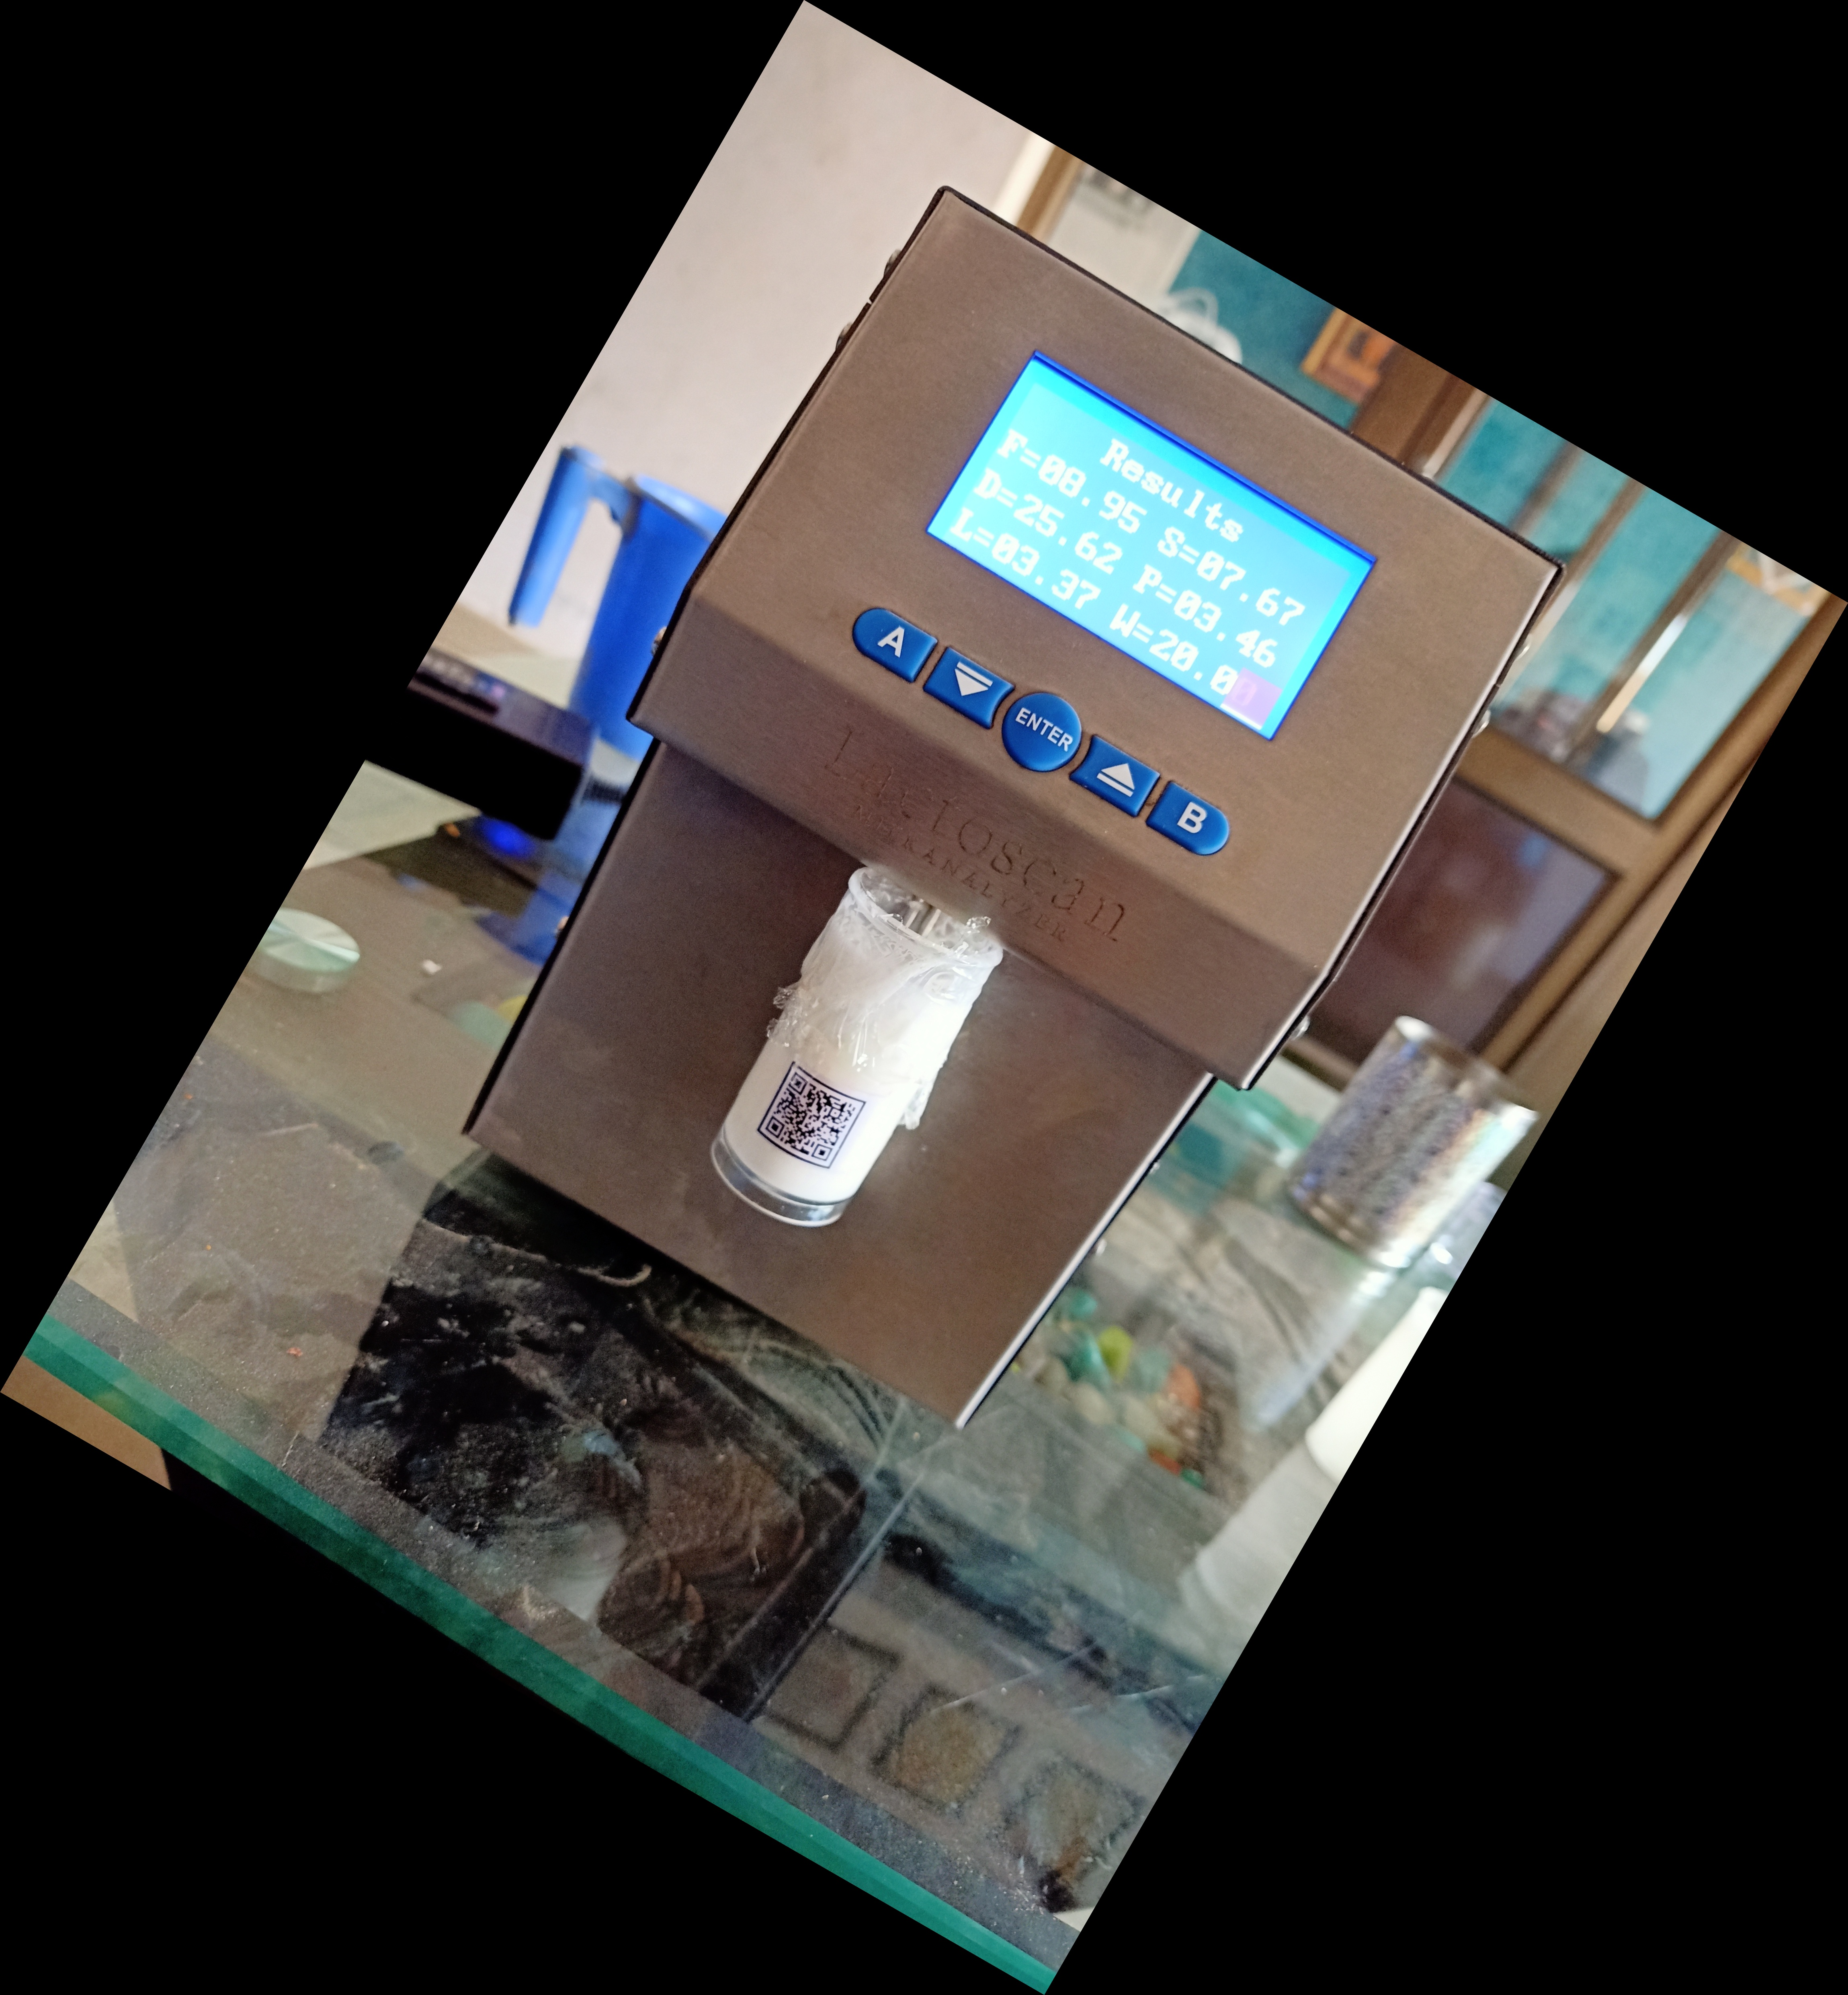lcd: (892, 323, 1398, 747)
qr: (742, 1057, 866, 1185)
